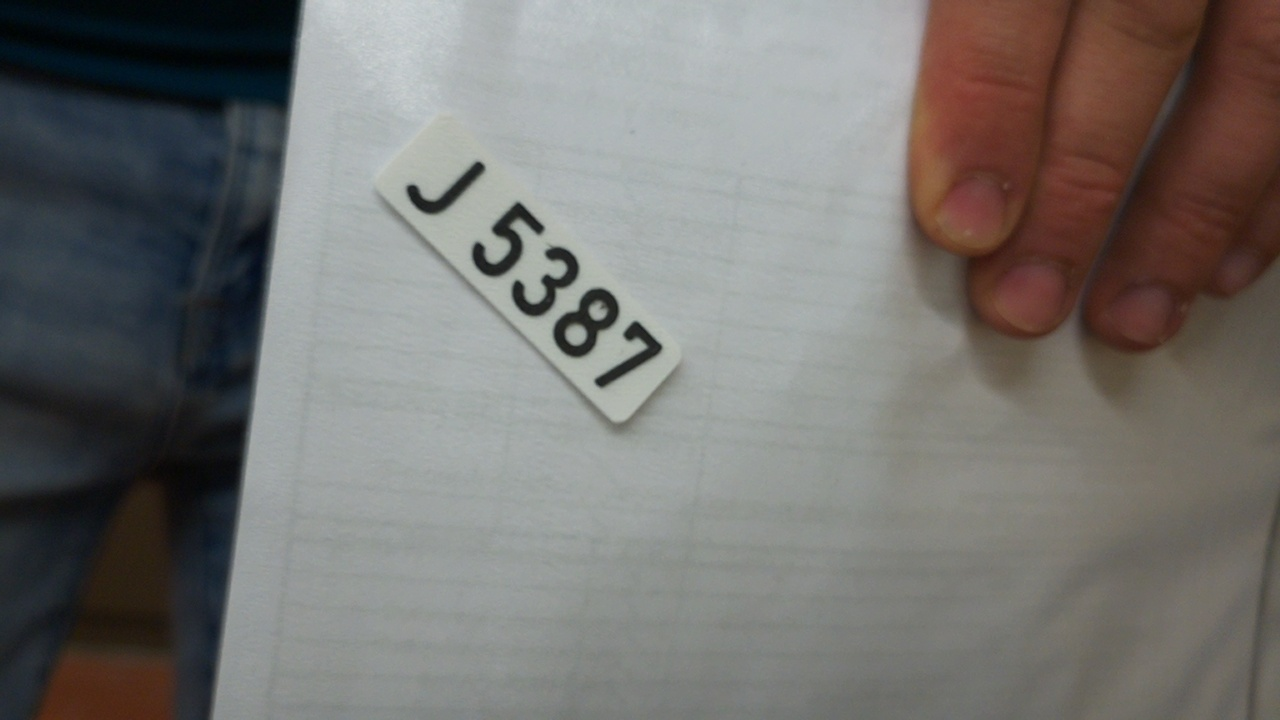license_plate: (370, 106, 688, 433)
